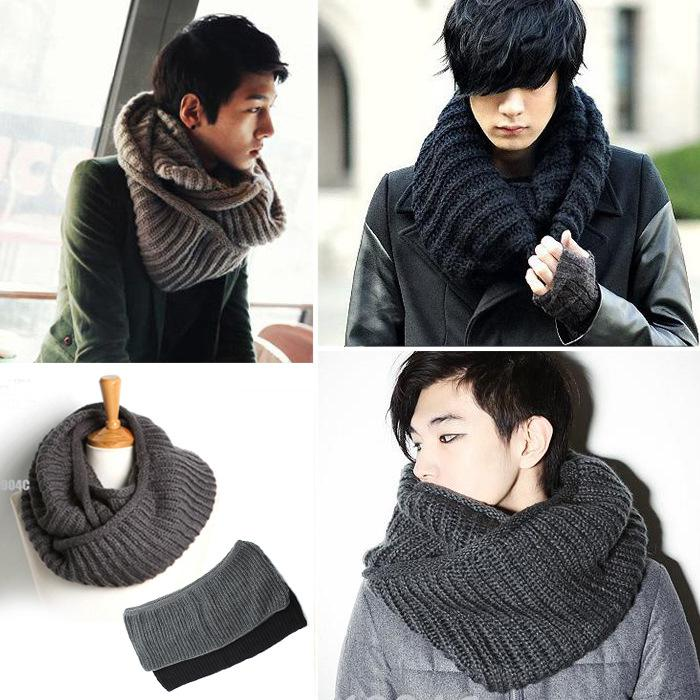NONE: (467, 58, 558, 153), (208, 83, 276, 173)
WRONG: (408, 415, 527, 534)
